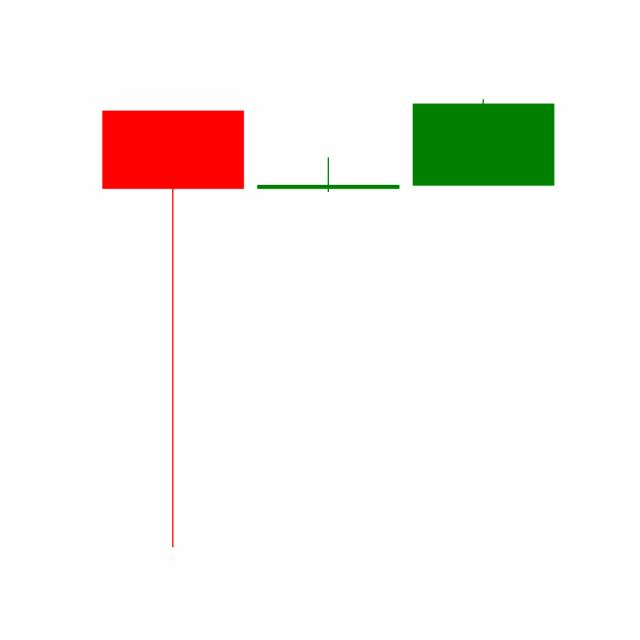Marubozu: (405, 98, 561, 186)
